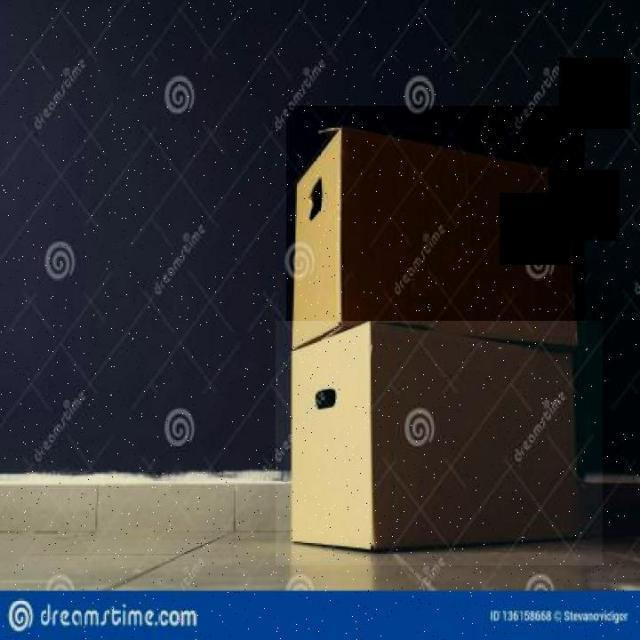box: (276, 320, 602, 566), (286, 105, 585, 348)
